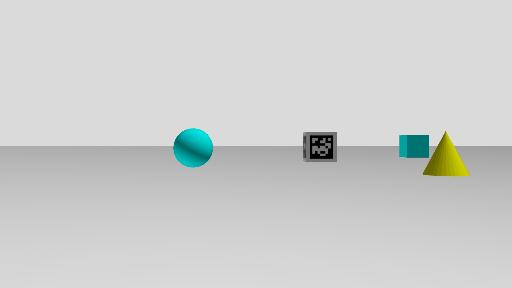yellow_cone: (420, 131, 470, 176)
